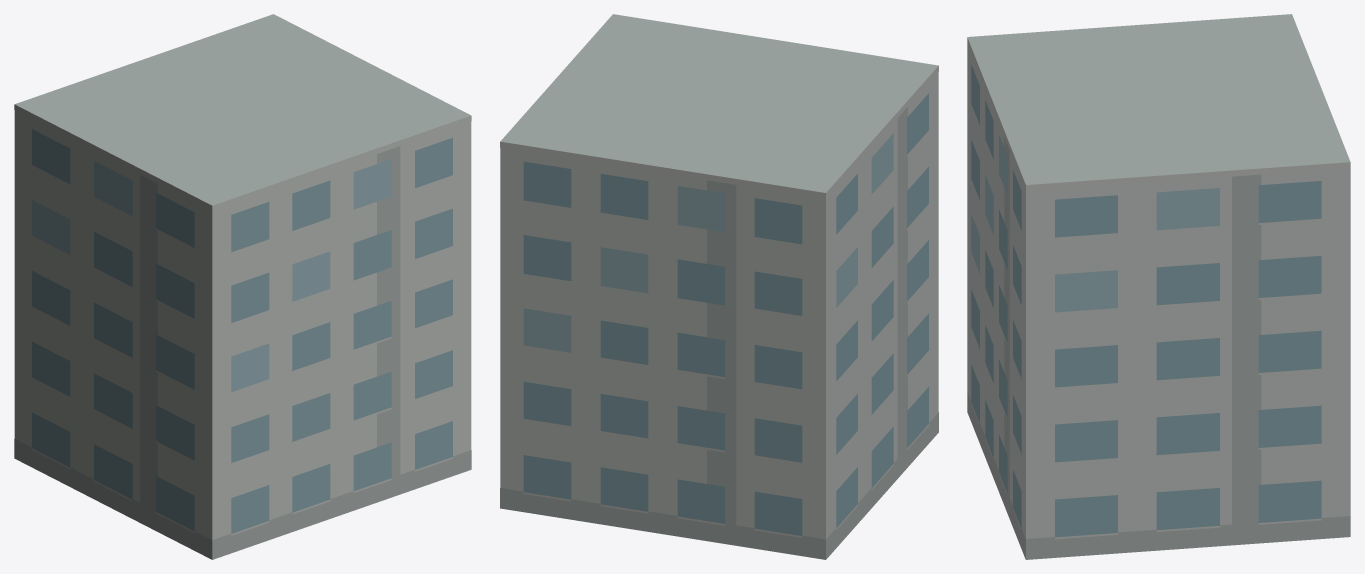
File: residential-b9c25a20-203e-408e-b20c-83bcfa71311c.glb
3 views of the same model, side by side, from view 1: azimuth 30°, elevation 25°; view 2: azimuth 150°, elevation 25°; view 3: azimuth 270°, elevation 25° (orthographic). The views are drawn at different scales.
Parts seen in each view (by area): view 1: residential-b9c25a20-203e-408e-b20c-83bcfa71311c.tmp; view 2: residential-b9c25a20-203e-408e-b20c-83bcfa71311c.tmp; view 3: residential-b9c25a20-203e-408e-b20c-83bcfa71311c.tmp.
Boxes of the visible parts, left/top/right/bottom form: residential-b9c25a20-203e-408e-b20c-83bcfa71311c.tmp: left=14, top=14, right=471, bottom=559; residential-b9c25a20-203e-408e-b20c-83bcfa71311c.tmp: left=500, top=14, right=938, bottom=559; residential-b9c25a20-203e-408e-b20c-83bcfa71311c.tmp: left=967, top=14, right=1350, bottom=559.
Size of the model in its own units: 14.69 by 15 by 13.92.
